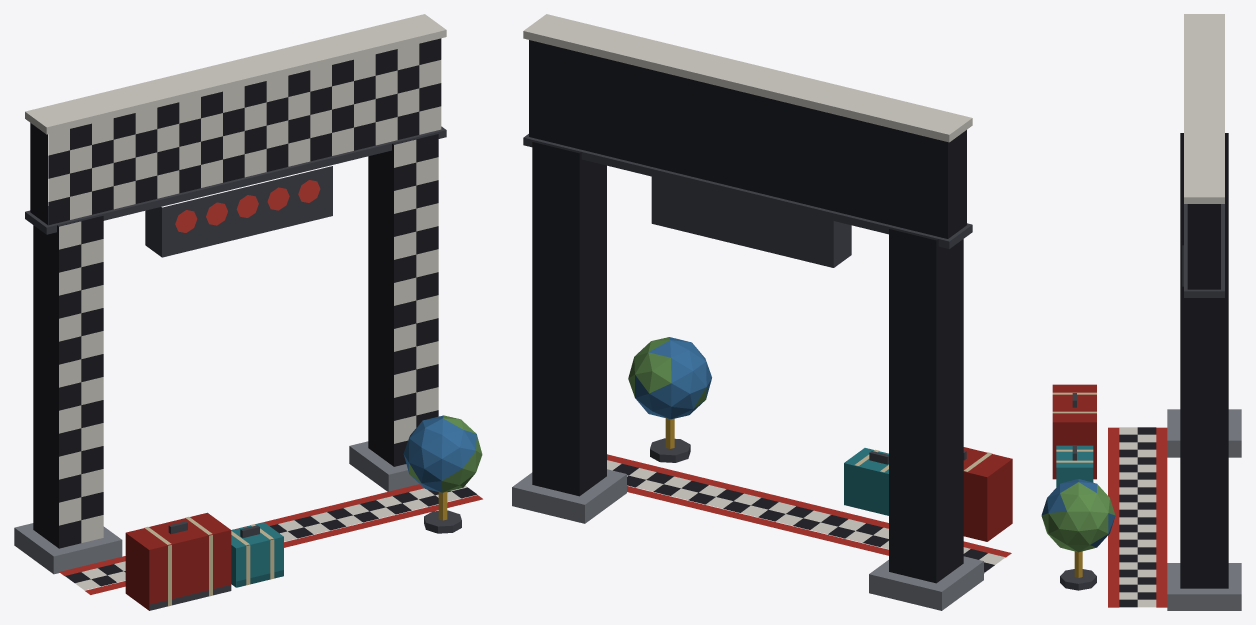
Rendered from special-start.glb.
The picture shows the model from 3 angles, left to right: view 1: azimuth 30°, elevation 25°; view 2: azimuth 150°, elevation 25°; view 3: azimuth 270°, elevation 25°; orthographic projection. The views are drawn at different scales.
Parts seen in each view (by area): view 1: special-start; view 2: special-start; view 3: special-start.
Boxes of the visible parts, x1,y1,x2,y2 form: special-start: [14, 14, 482, 610]; special-start: [512, 14, 1012, 610]; special-start: [1041, 14, 1241, 610].
Bounding box in the file's own units: 2.36 × 2.46 × 1.08.
